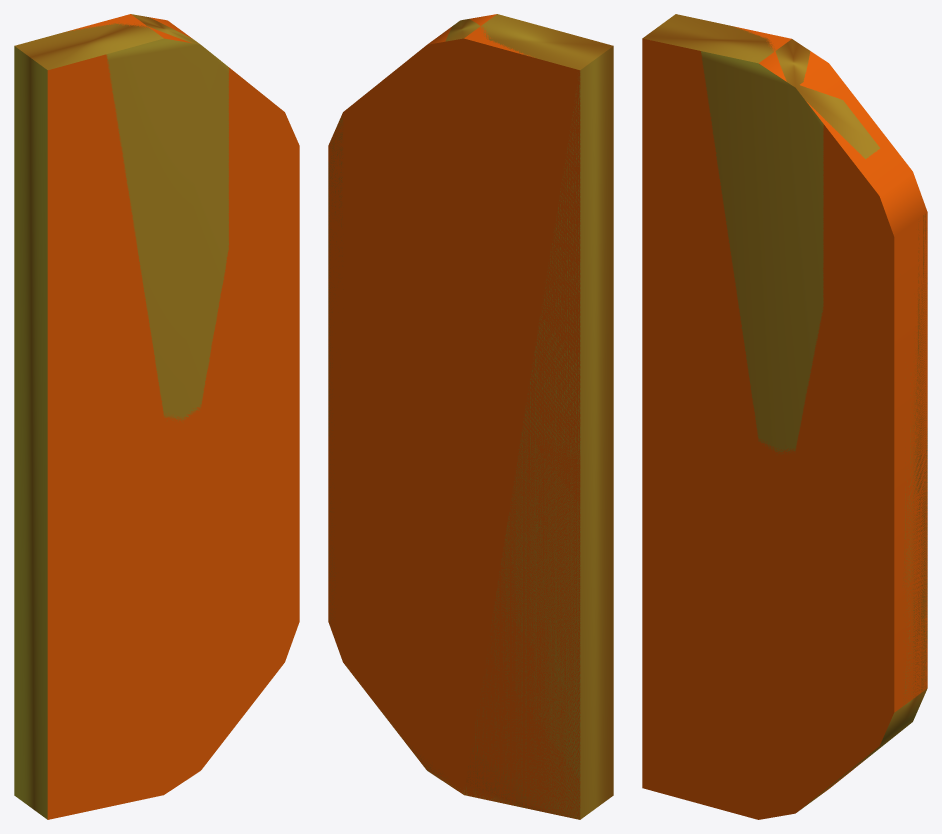
The model's file is M_md_Stall3_cap_01.fbx.
3 views of the same model, side by side, from view 1: azimuth 30°, elevation 25°; view 2: azimuth 150°, elevation 25°; view 3: azimuth 330°, elevation 25° (orthographic).
Parts seen in each view (by area): view 1: M_md_Stall3_cap_01, M_md_Stall3_cap_01_col_01; view 2: M_md_Stall3_cap_01, M_md_Stall3_cap_01_col_01; view 3: M_md_Stall3_cap_01, M_md_Stall3_cap_01_col_01.
Part boxes in pixels (x1=…): M_md_Stall3_cap_01: x1=14, y1=14, x2=299, y2=819; M_md_Stall3_cap_01_col_01: x1=14, y1=14, x2=228, y2=819; M_md_Stall3_cap_01: x1=328, y1=14, x2=613, y2=819; M_md_Stall3_cap_01_col_01: x1=328, y1=14, x2=613, y2=819; M_md_Stall3_cap_01: x1=642, y1=14, x2=927, y2=819; M_md_Stall3_cap_01_col_01: x1=642, y1=14, x2=927, y2=809.
Bounding box in the file's own units: 4.48 × 12.85 × 1.03.
